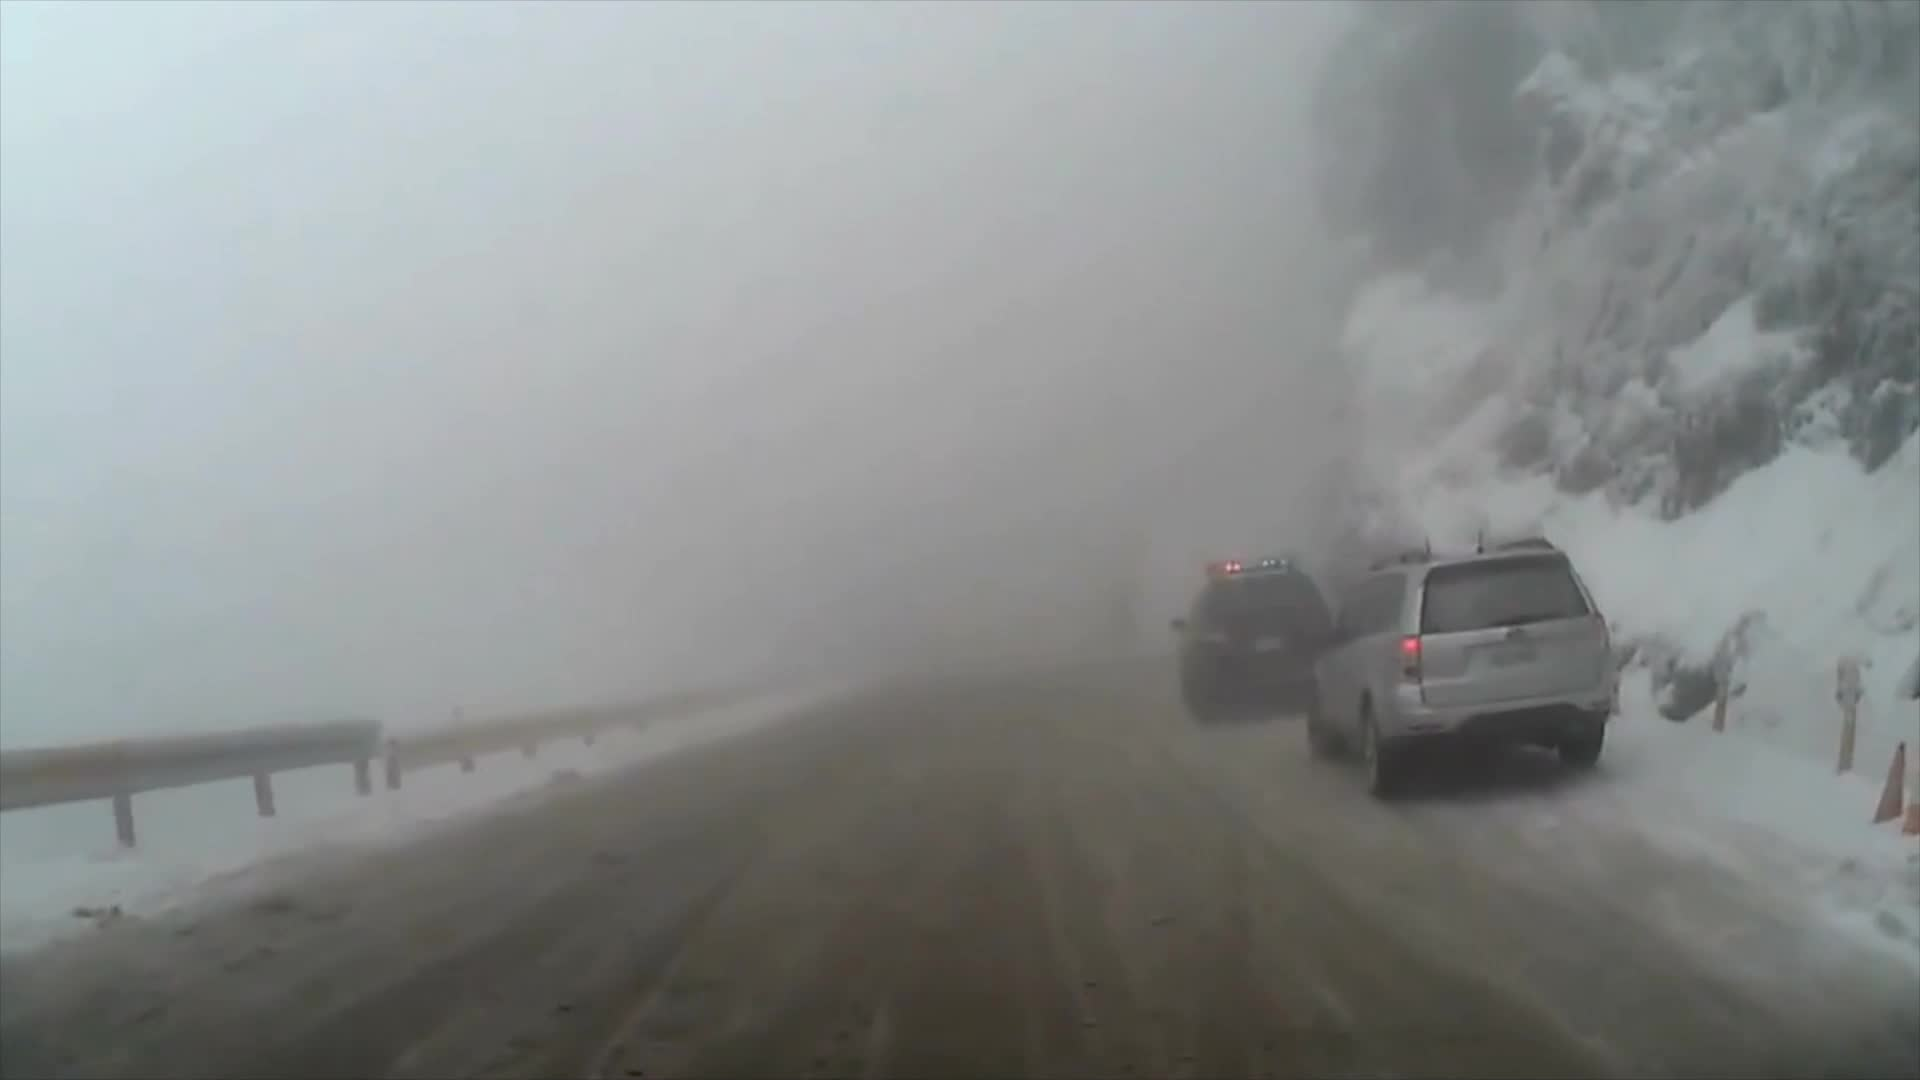vehicle: (1303, 535, 1618, 804), (1170, 553, 1340, 724)
